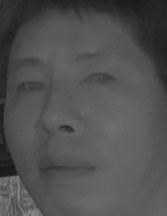eye: (79, 68, 118, 93), (11, 77, 48, 97)
mouth: (39, 148, 97, 189)
